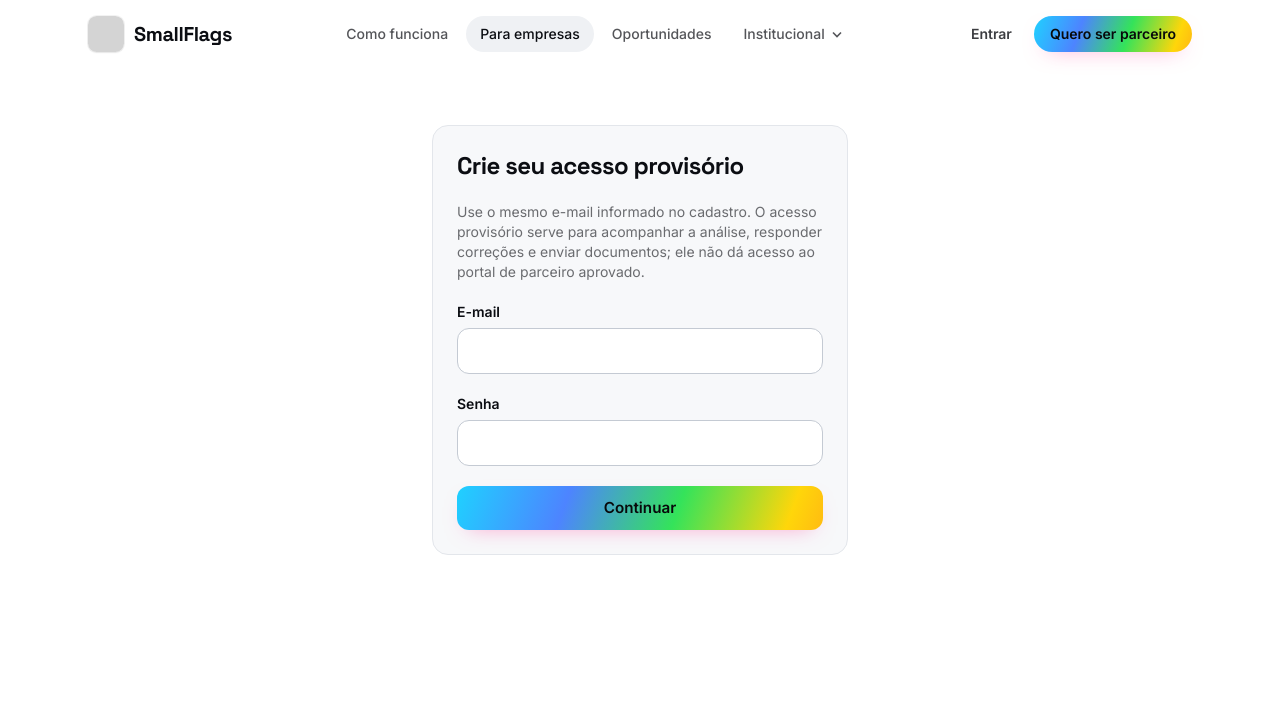
A — signUp devolve sessao › carrega termos, exige aceite vinculado e so entao reivindica
Type "contato@teste.com.br" into the field labelled "E-mail" at {"x": 640, "y": 351}, box [457,328,823,374]
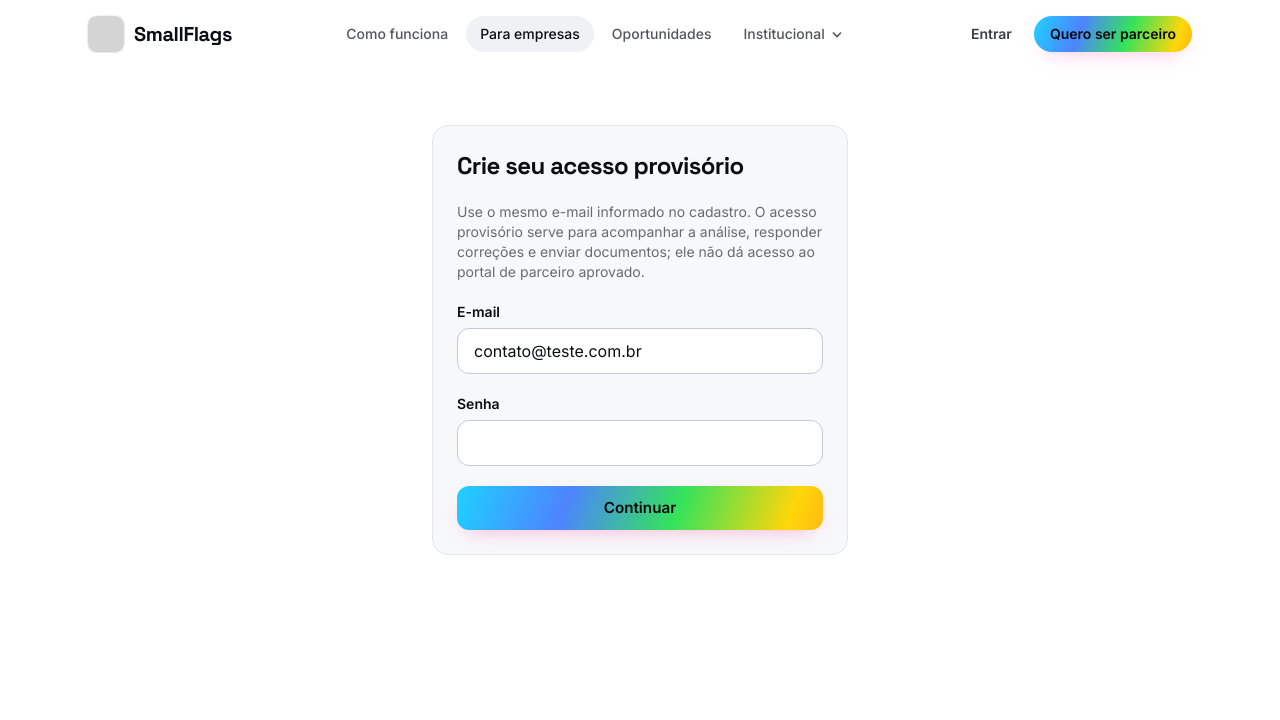
Type "senha-forte-1" into the password field labelled "Senha" at {"x": 640, "y": 443}, box [457,420,823,466]
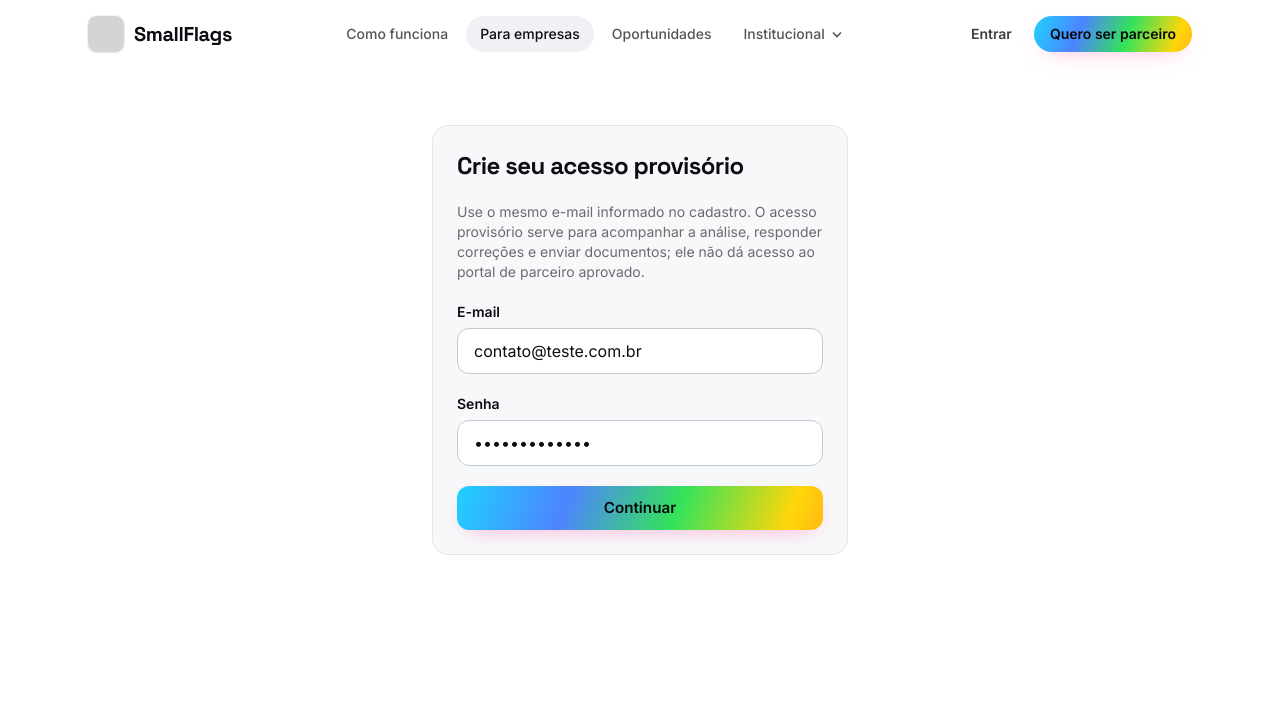
Click the button "Continuar" at {"x": 640, "y": 508}, box [457,486,823,530]
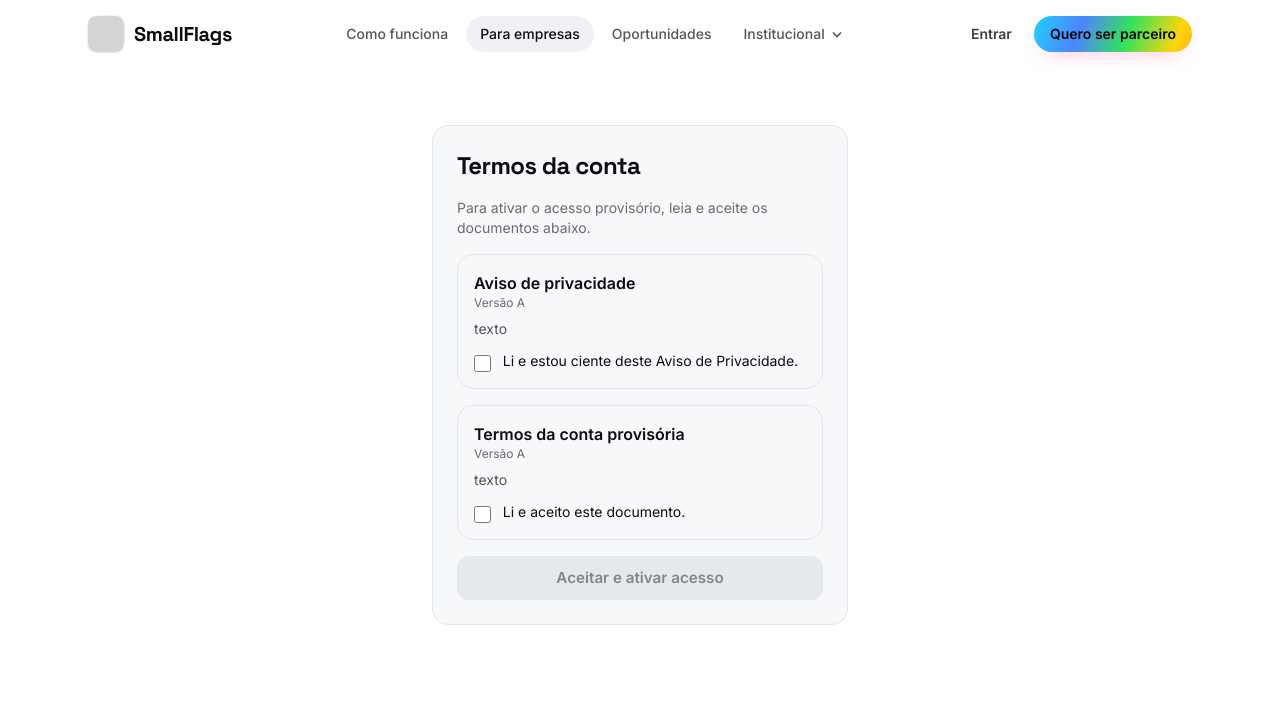
Expected: the checkbox named "ciente: aviso de privacidade" is shown
Click the checkbox named "ciente: aviso de privacidade" at {"x": 482, "y": 363}, box [474,355,491,372]
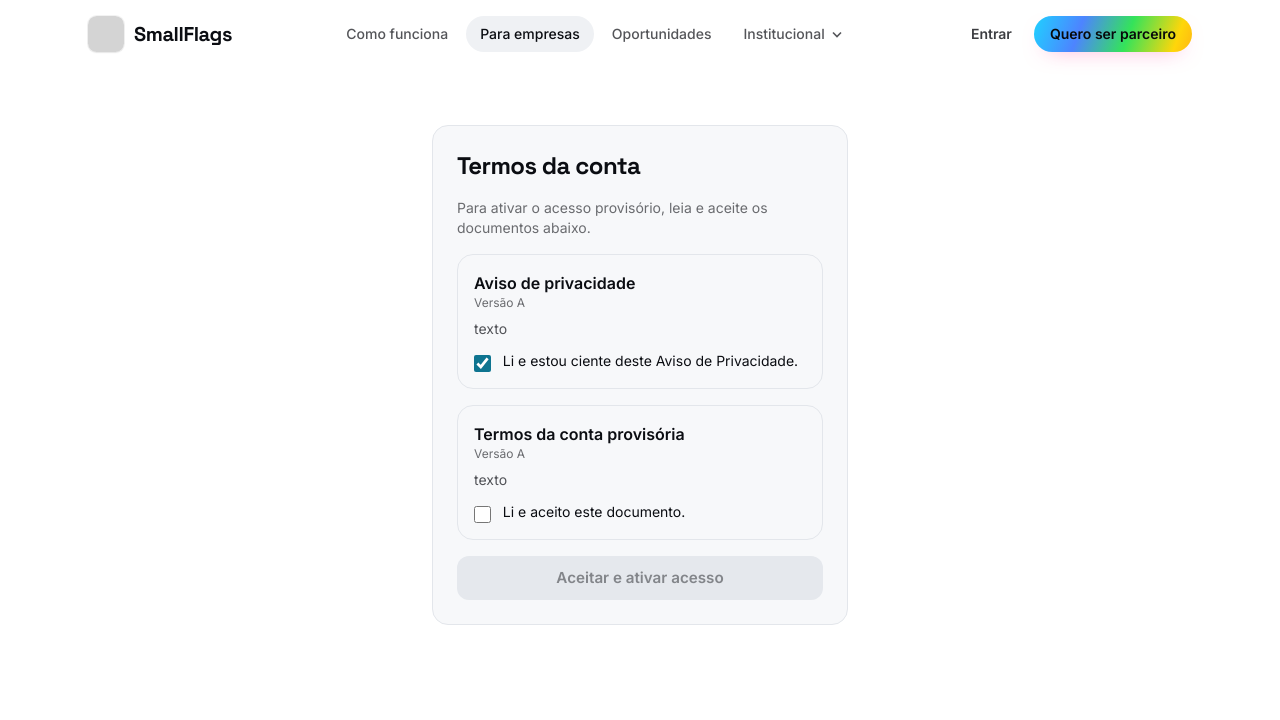
Click the checkbox named "aceito: termos da conta" at {"x": 482, "y": 514}, box [474,506,491,523]
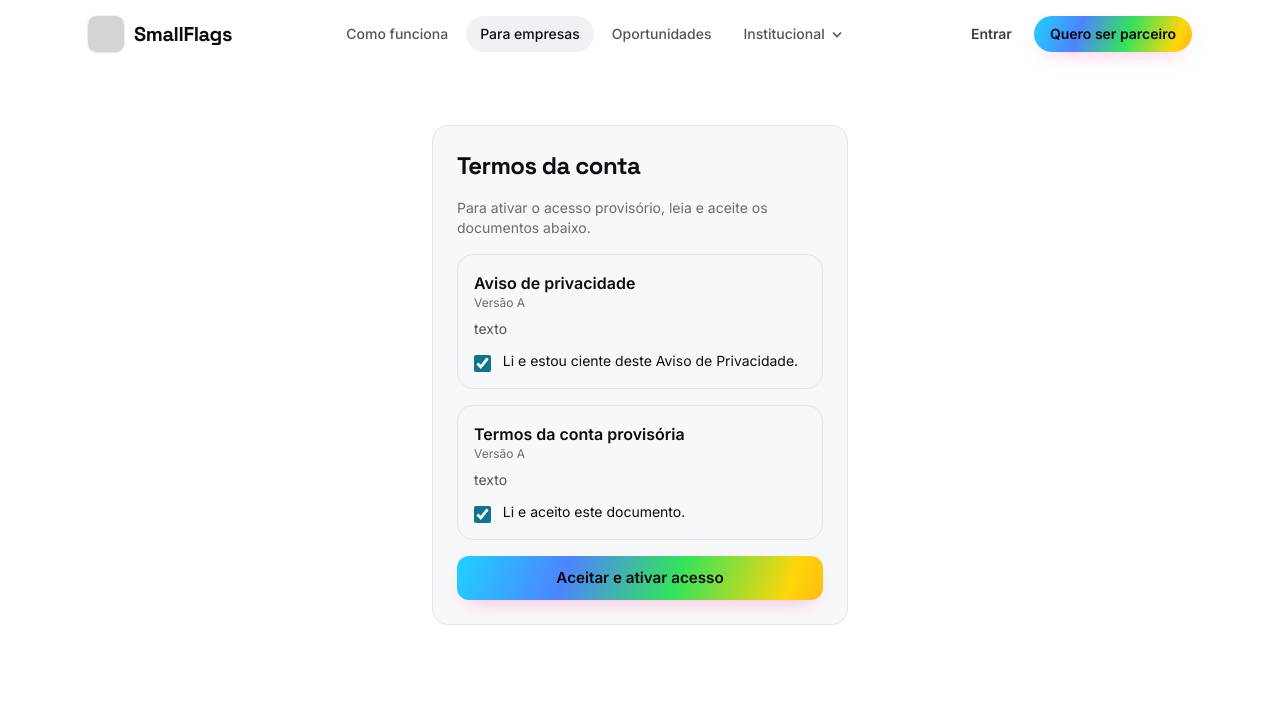
Click the button "Aceitar e ativar acesso" at {"x": 640, "y": 578}, box [457,556,823,600]
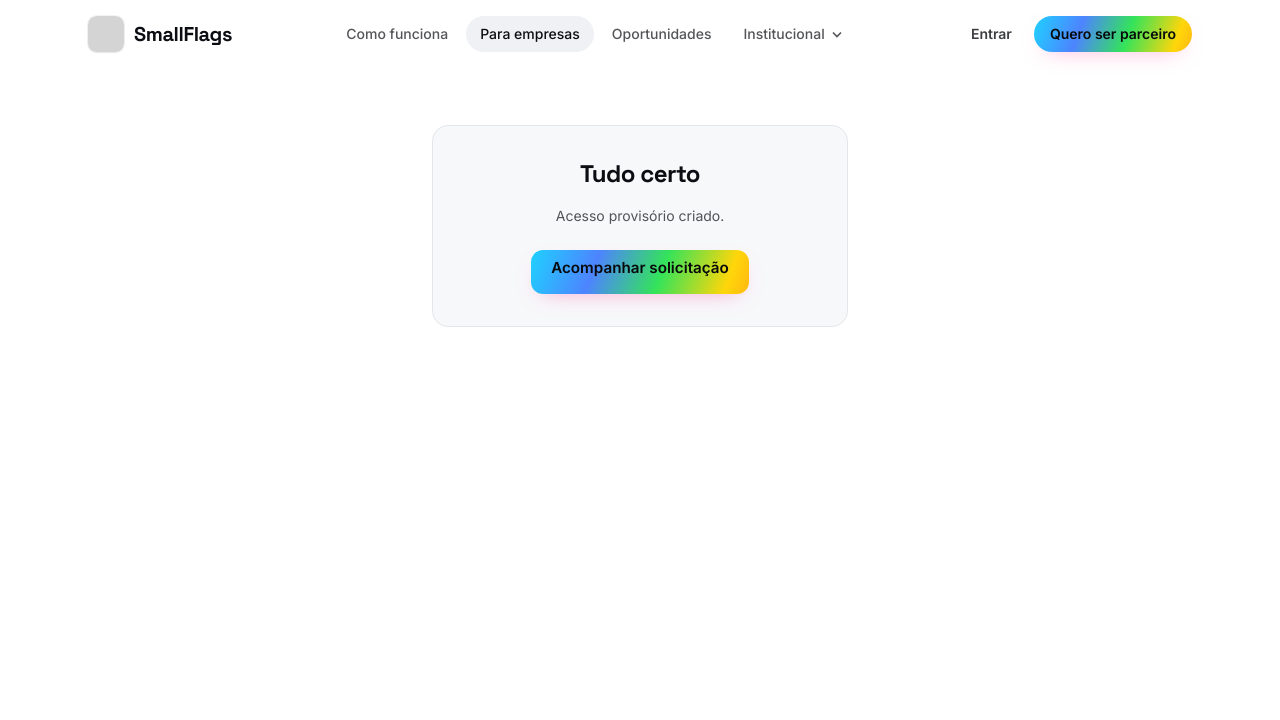
Expected: the heading "Tudo certo" is shown, [580,158,700,189]
Expected: the link "Acompanhar solicitação" is shown, [531,250,749,294]
